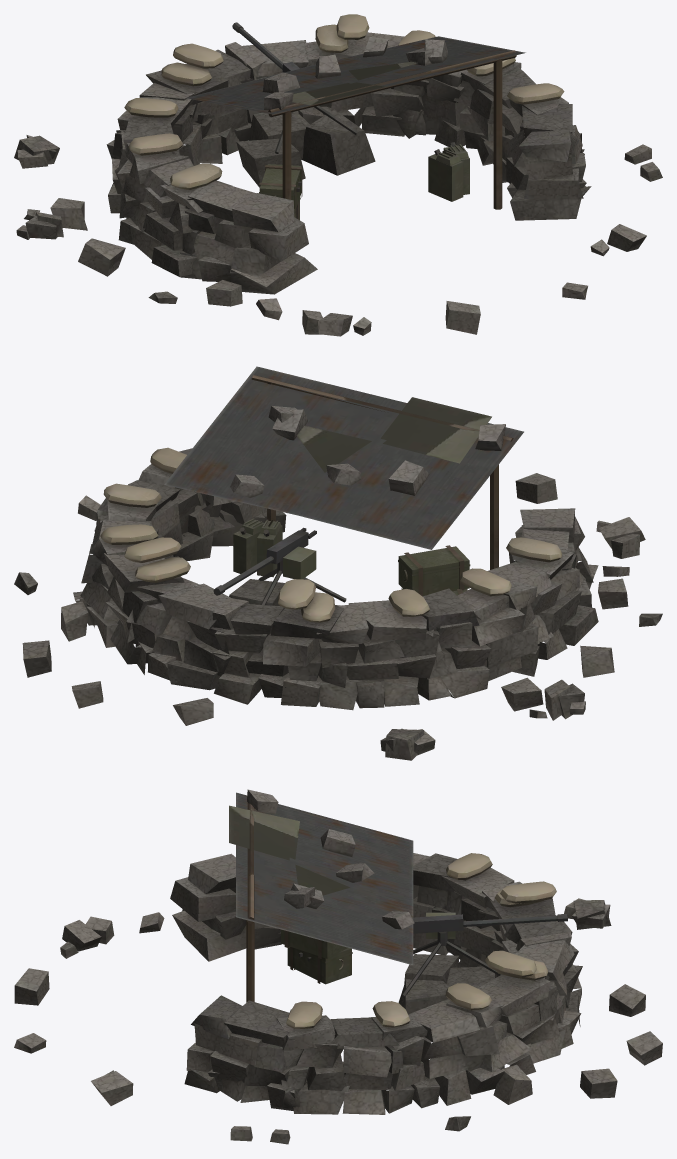
File: sangar.glb
The picture shows the model from 3 angles, top to bottom: view 1: azimuth 30°, elevation 25°; view 2: azimuth 150°, elevation 25°; view 3: azimuth 270°, elevation 25°; orthographic projection. The views are drawn at different scales.
Parts seen in each view (by area): view 1: walls; view 2: walls; view 3: walls.
Part boxes in pixels (bbox=[...]): walls: bbox=[14, 14, 662, 336]; walls: bbox=[14, 366, 662, 760]; walls: bbox=[14, 789, 662, 1144].
Bounding box in the file's own units: 6.55 × 1.96 × 6.59.
1 material, 1 textured.
